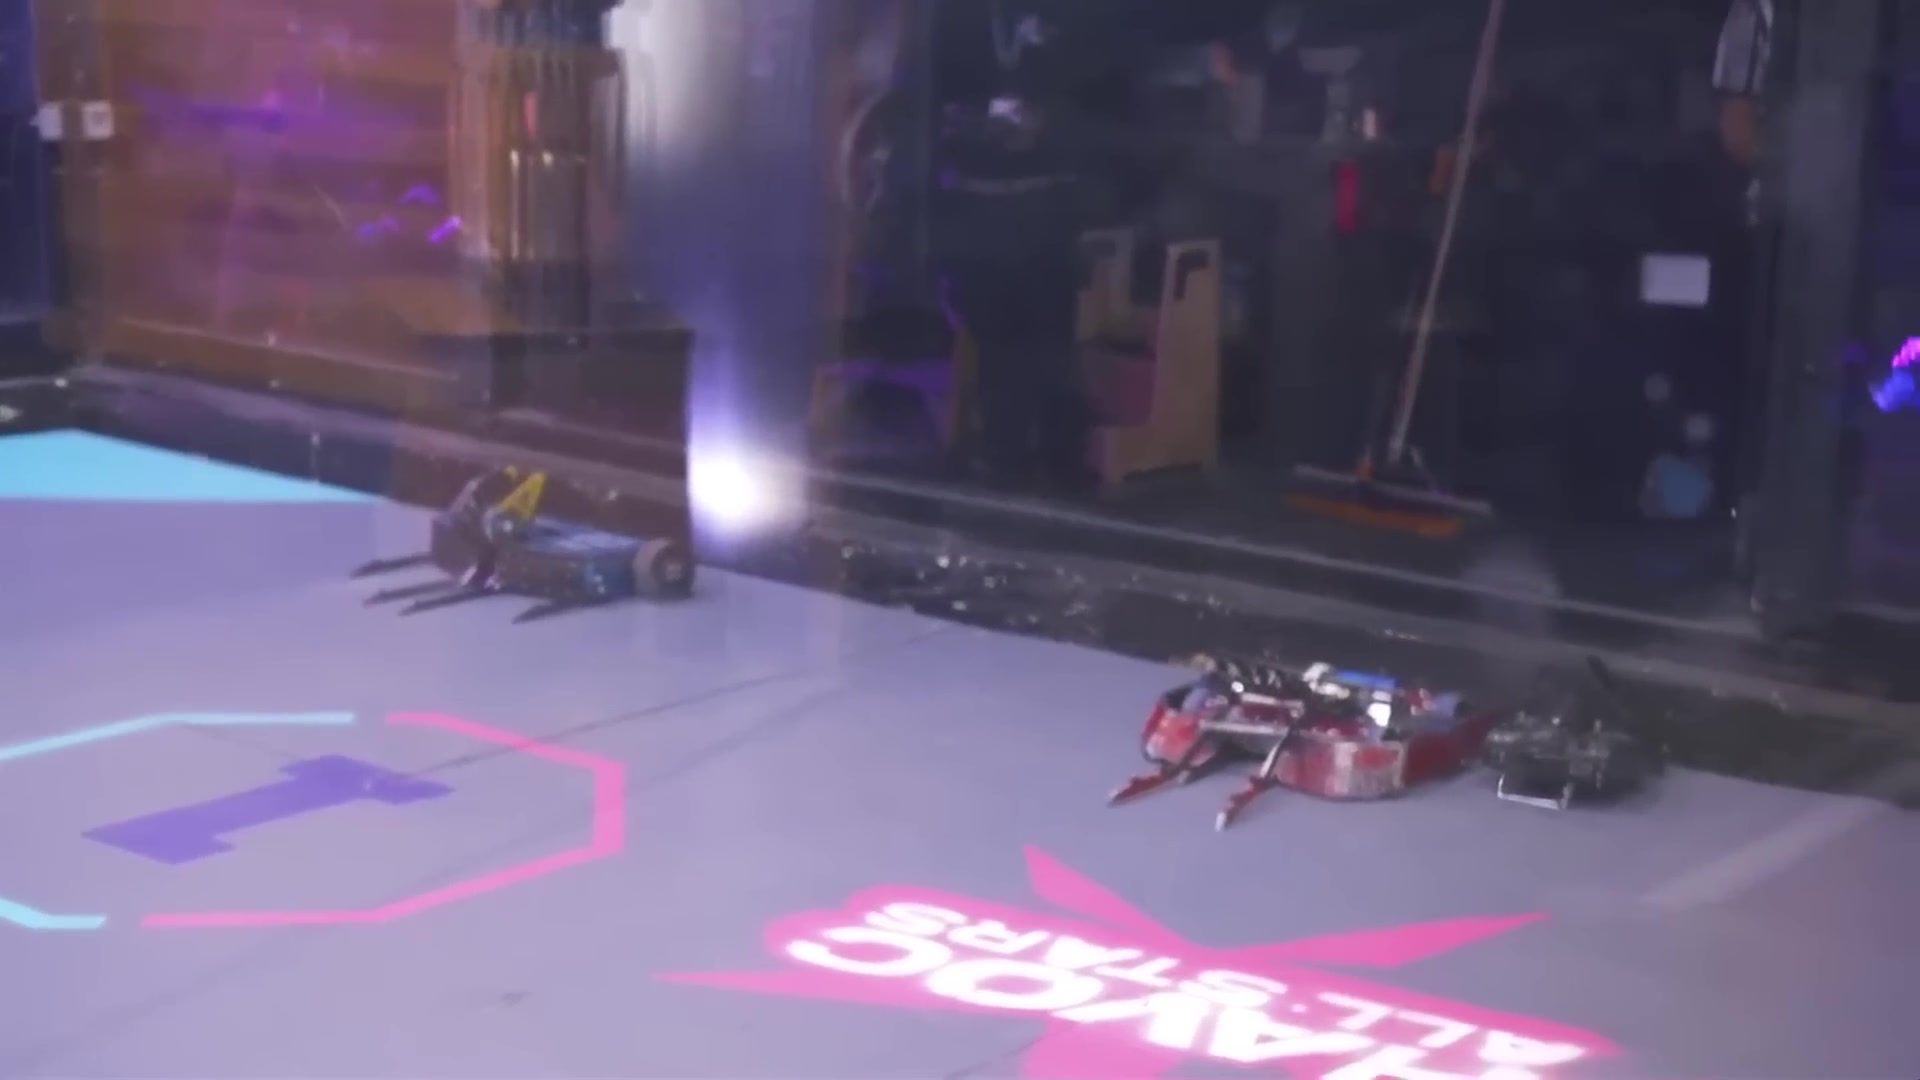combatbot: (1108, 651, 1494, 835), (347, 473, 695, 622)
